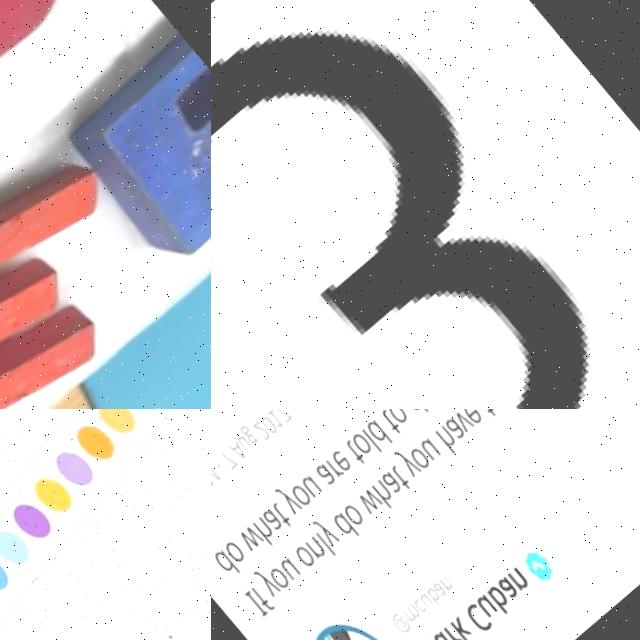0: (262, 413, 284, 435)
1: (269, 409, 291, 429)
2: (255, 419, 277, 441)
3: (211, 0, 640, 409)
7: (221, 446, 245, 470), (275, 409, 297, 423)
A: (0, 0, 117, 149)
B: (13, 17, 211, 303)
E: (0, 135, 206, 409)
